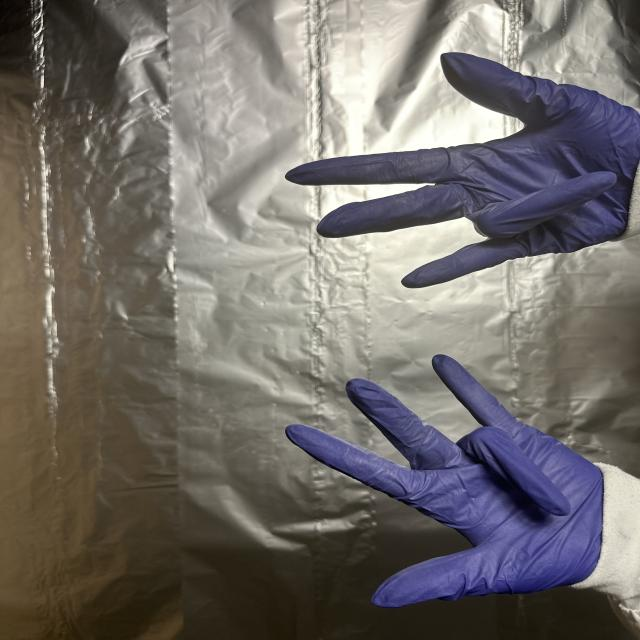gloves_contaminated: (285, 53, 640, 288), (286, 355, 603, 607)
